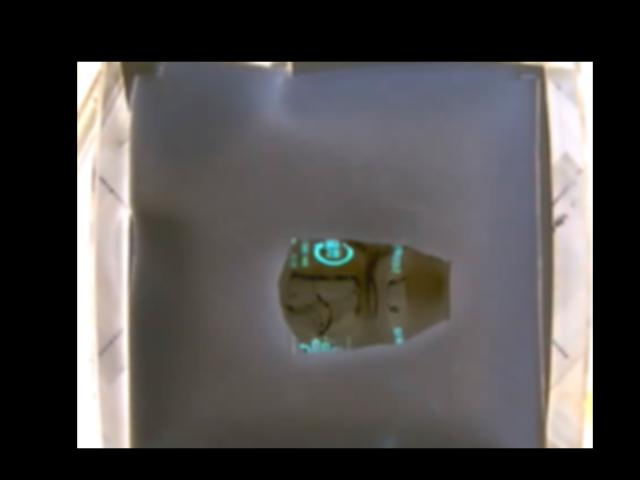Bottle: (275, 236, 452, 354)
